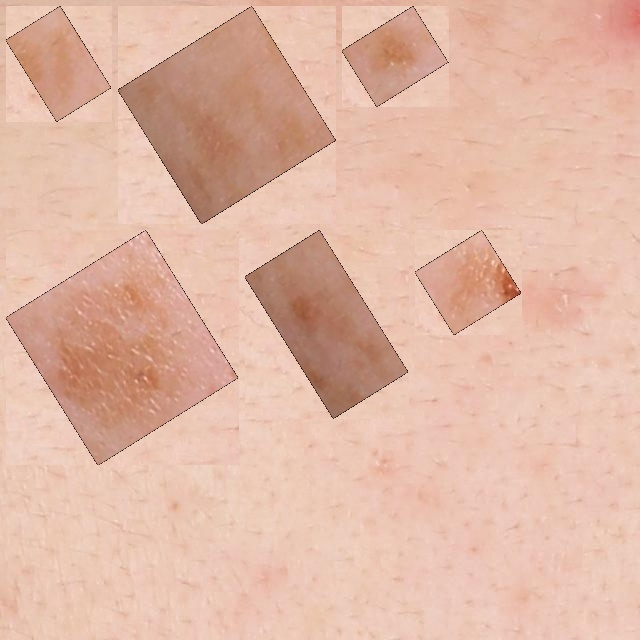melasma: (17, 241, 227, 454), (129, 17, 325, 213), (256, 241, 397, 407), (17, 17, 100, 110), (426, 241, 510, 324), (353, 17, 437, 95)
